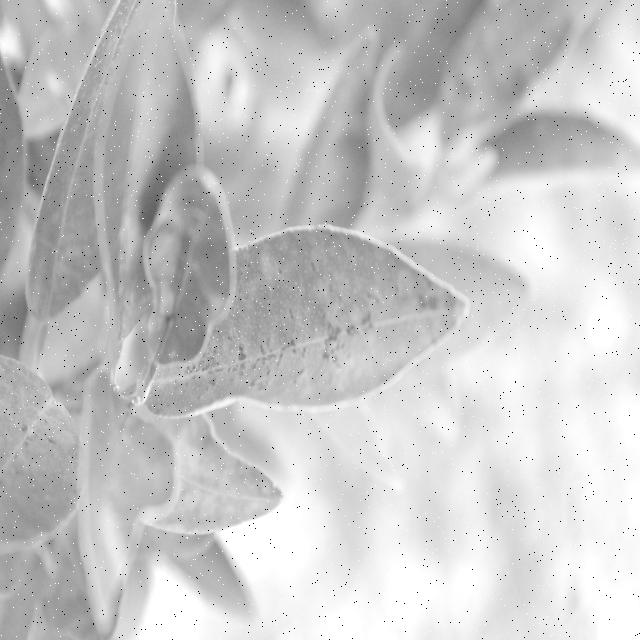canker: (174, 286, 452, 404)
